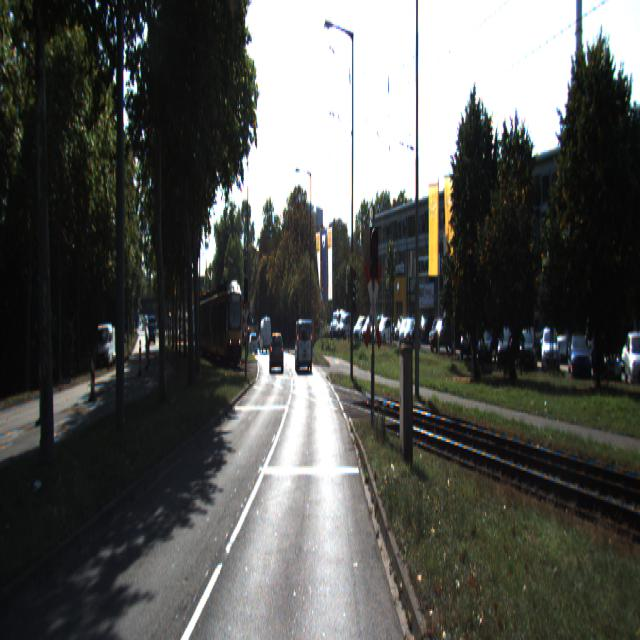Car: (200, 284, 244, 364), (295, 317, 313, 374), (270, 332, 284, 375)
